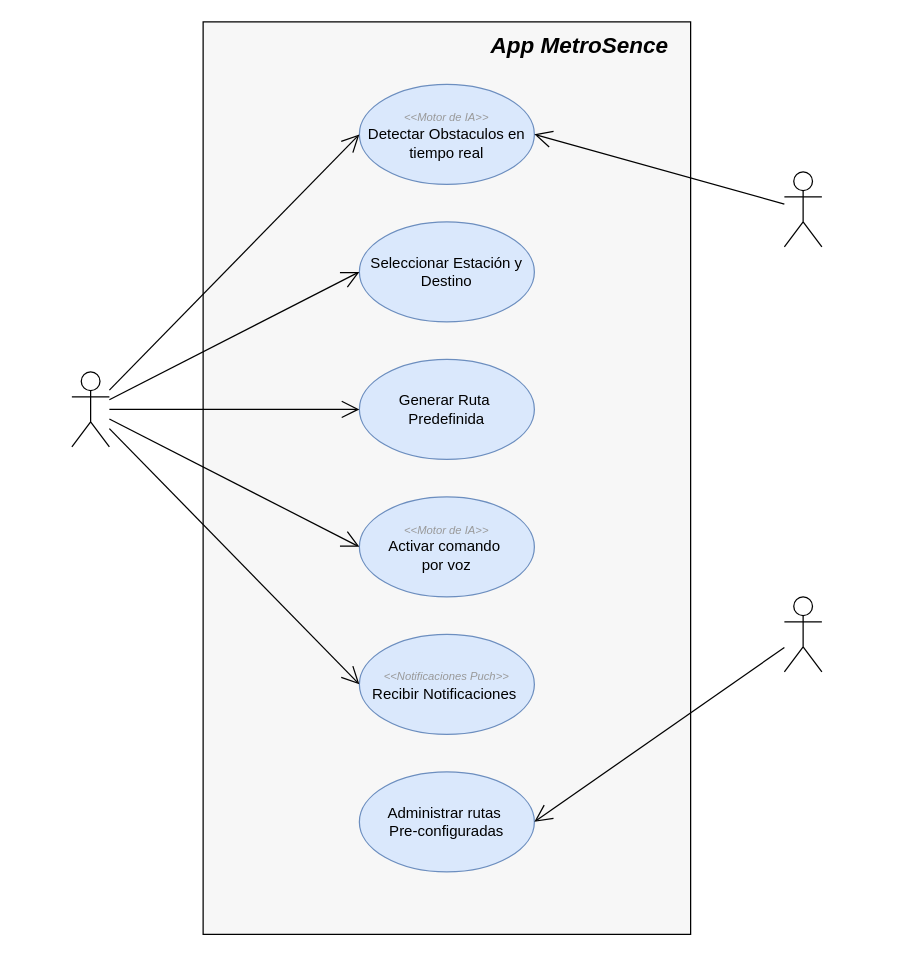
Some shapes in this 898 by 956 pixel diagram are drawn without their labels. The centre of each missing label's shape, as x and y in pixels:
Administrador del Sistema: point (802, 634)
Sistema de Detección de Objetos (IA): point (802, 209)
Usuario con Discapacidad Visual: point (90, 409)
